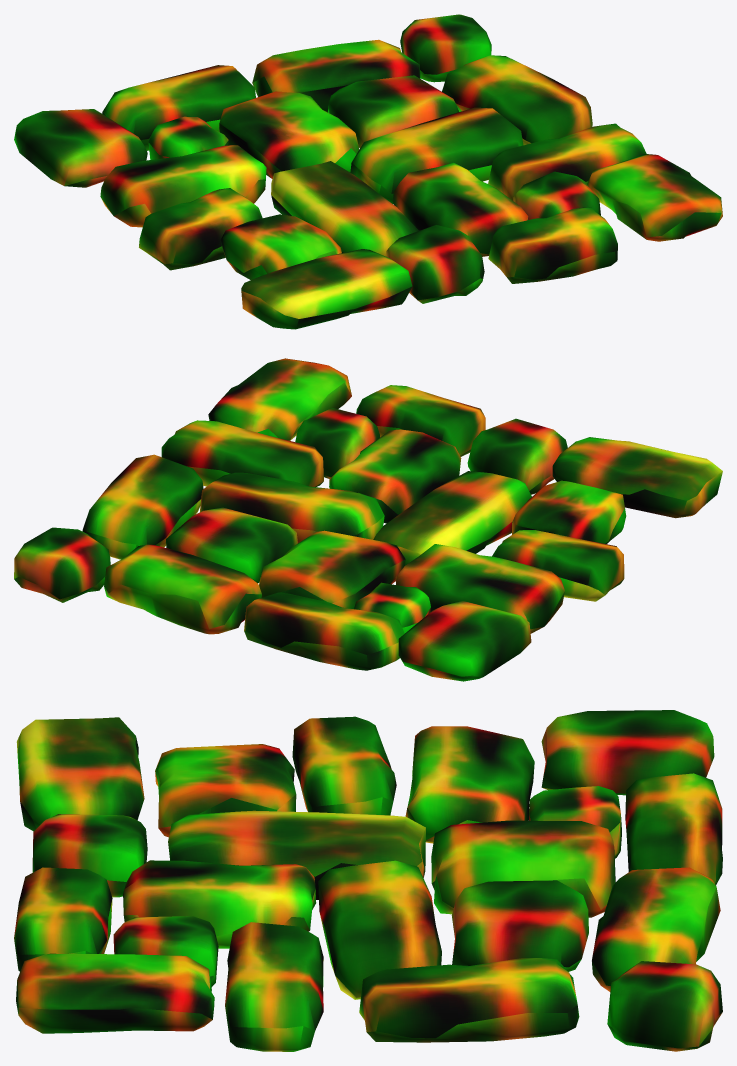
The picture shows the model from 3 angles, top to bottom: view 1: azimuth 30°, elevation 25°; view 2: azimuth 150°, elevation 25°; view 3: azimuth 270°, elevation 25°; orthographic projection. The views are drawn at different scales.
Visible parts, largest first — view 1: SM_FellhollowPlatforming_Cobbles_LOD0; view 2: SM_FellhollowPlatforming_Cobbles_LOD0; view 3: SM_FellhollowPlatforming_Cobbles_LOD0.
Part boxes in pixels (bbox=[...]): SM_FellhollowPlatforming_Cobbles_LOD0: bbox=[14, 14, 722, 329]; SM_FellhollowPlatforming_Cobbles_LOD0: bbox=[14, 358, 722, 681]; SM_FellhollowPlatforming_Cobbles_LOD0: bbox=[14, 710, 722, 1051].
Size of the model in its own units: 1.93 by 0.2032 by 1.95.
1 material, 1 textured.
